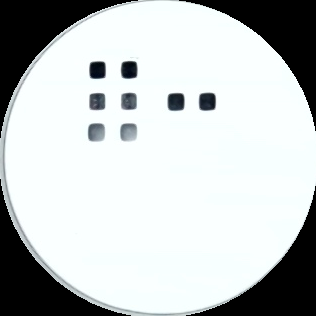检查点: (120, 60, 139, 79), (167, 93, 186, 112), (120, 123, 139, 142), (89, 60, 107, 80), (199, 92, 217, 111), (88, 123, 106, 142), (88, 93, 106, 111), (120, 93, 138, 111)
